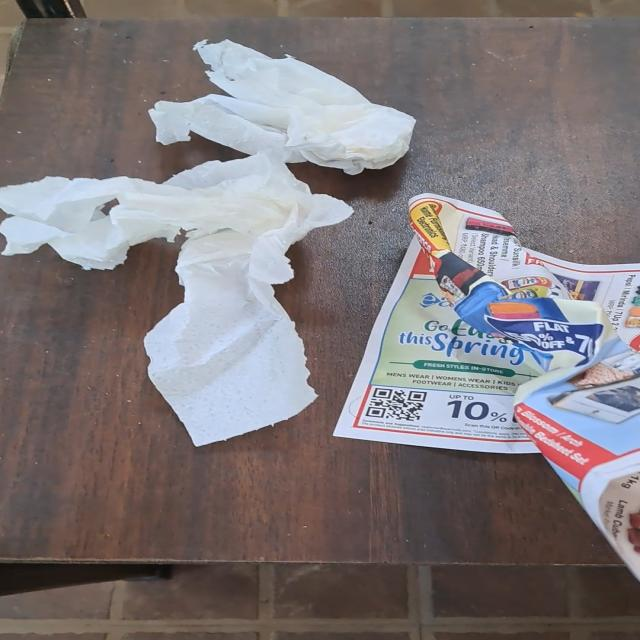Organik: (349, 185, 640, 595), (0, 145, 382, 452), (128, 27, 454, 180)
